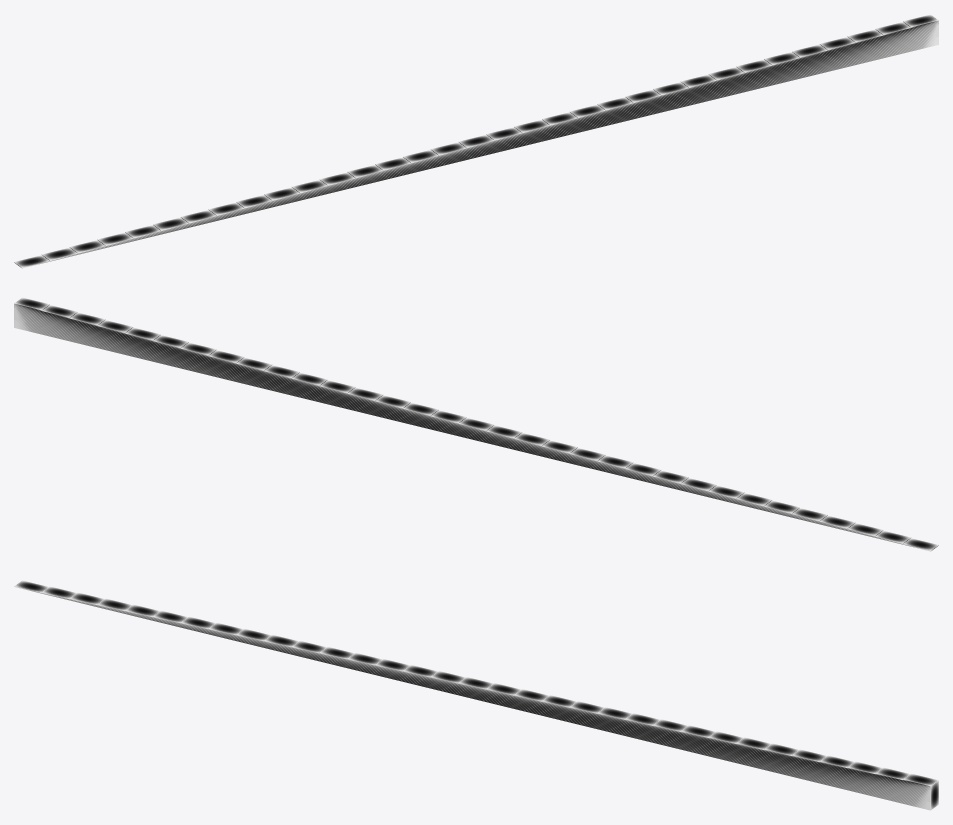
File: uxr.zone_linear_stair.glb
3 renders of one model, top to bottom at view 1: azimuth 30°, elevation 25°; view 2: azimuth 150°, elevation 25°; view 3: azimuth 330°, elevation 25°, orthographic.
Parts seen in each view (by area): view 1: linearstair:linearstair_ncl1_1; view 2: linearstair:linearstair_ncl1_1; view 3: linearstair:linearstair_ncl1_1.
Boxes of the visible parts, x1,y1,x2,y2 form: linearstair:linearstair_ncl1_1: (14,14,938,268); linearstair:linearstair_ncl1_1: (14,297,938,551); linearstair:linearstair_ncl1_1: (14,580,938,810).
Size of the model in its own units: 162 by 4.11 by 2.5.
1 material, 1 textured.
